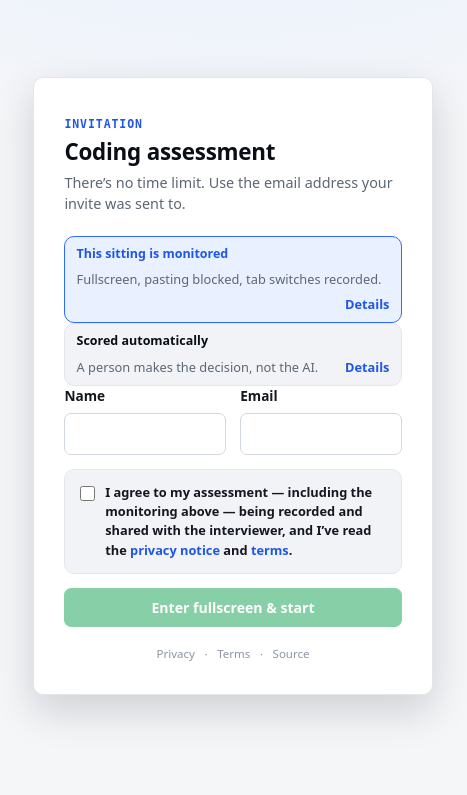
Test: CandidatePage › turns away an uninvited email at the gate with no question data
Expected: the heading "Coding assessment" is shown, [64,136,275,167]
In the field labelled "Name": (145, 434) [64,412,226,455], type "Mallory"
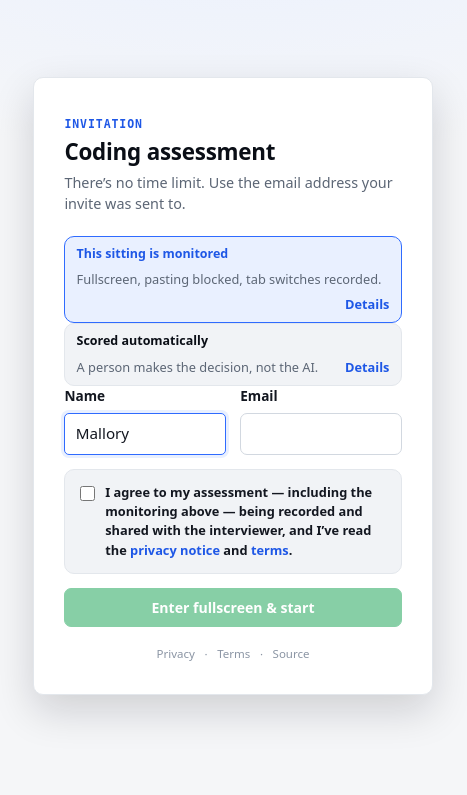
In the field labelled "Email": (321, 434) [240,412,402,455], type "mallory@example.com"
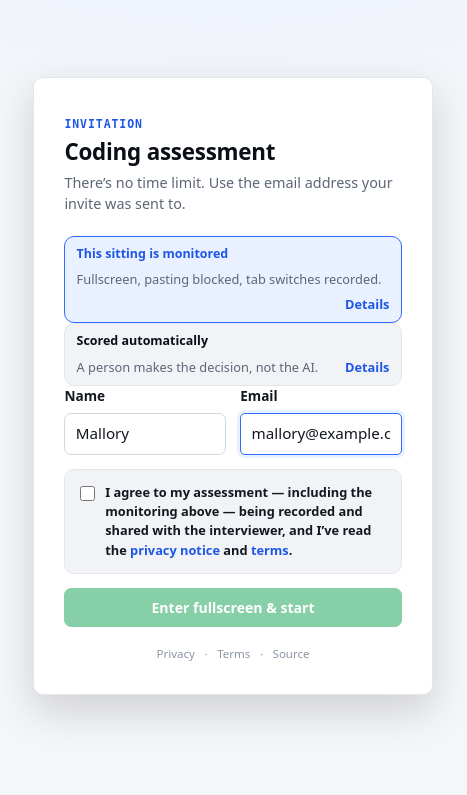
Click the checkbox labelled "I agree to my assessment": (87, 493) [80,486,95,500]
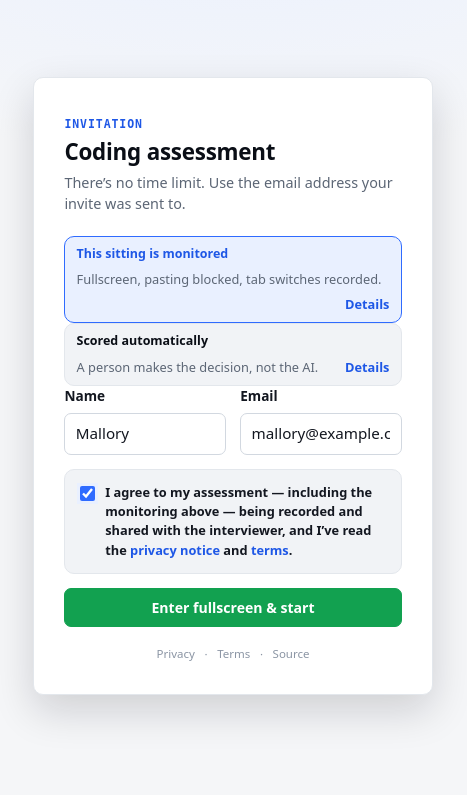
Click the button "Enter fullscreen & start": (233, 608) [64,588,402,627]
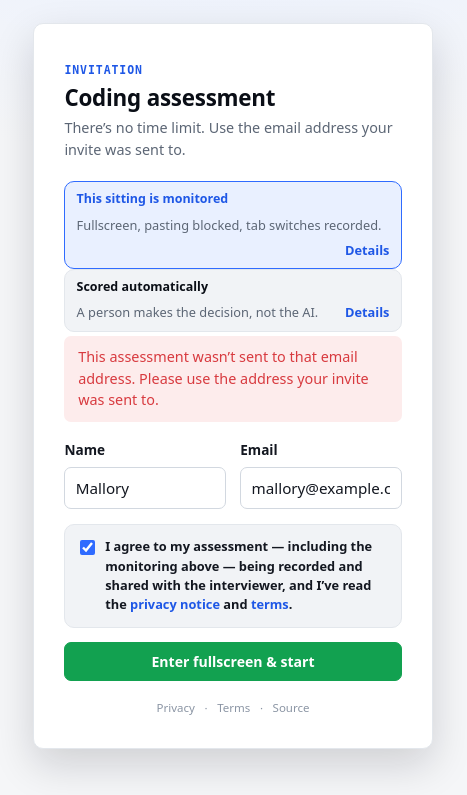
Expected: the message shows "wasn’t sent to that email", [78,347,369,409]
